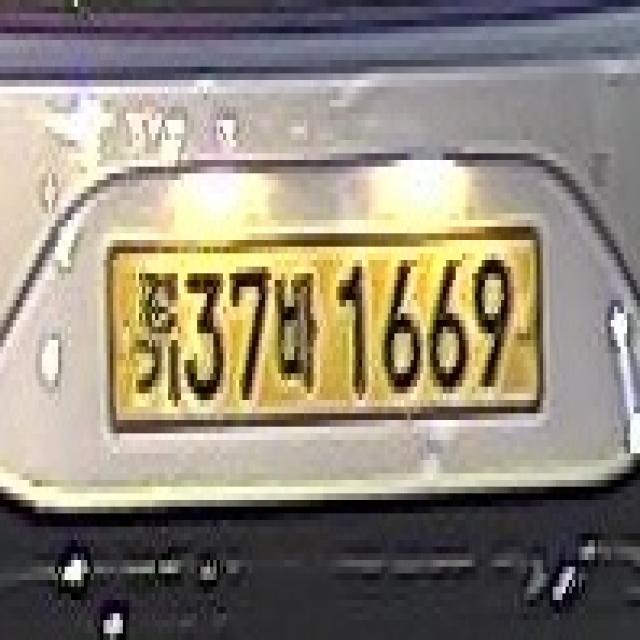plat: (104, 224, 548, 431)
